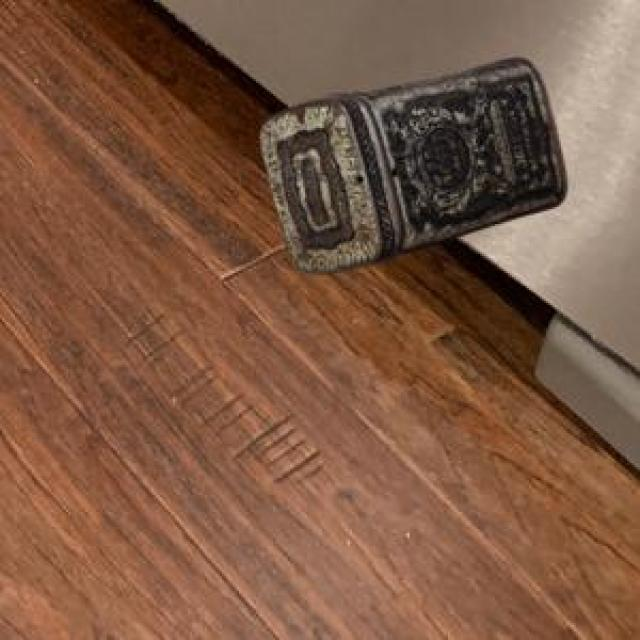Can: (259, 57, 564, 270)
